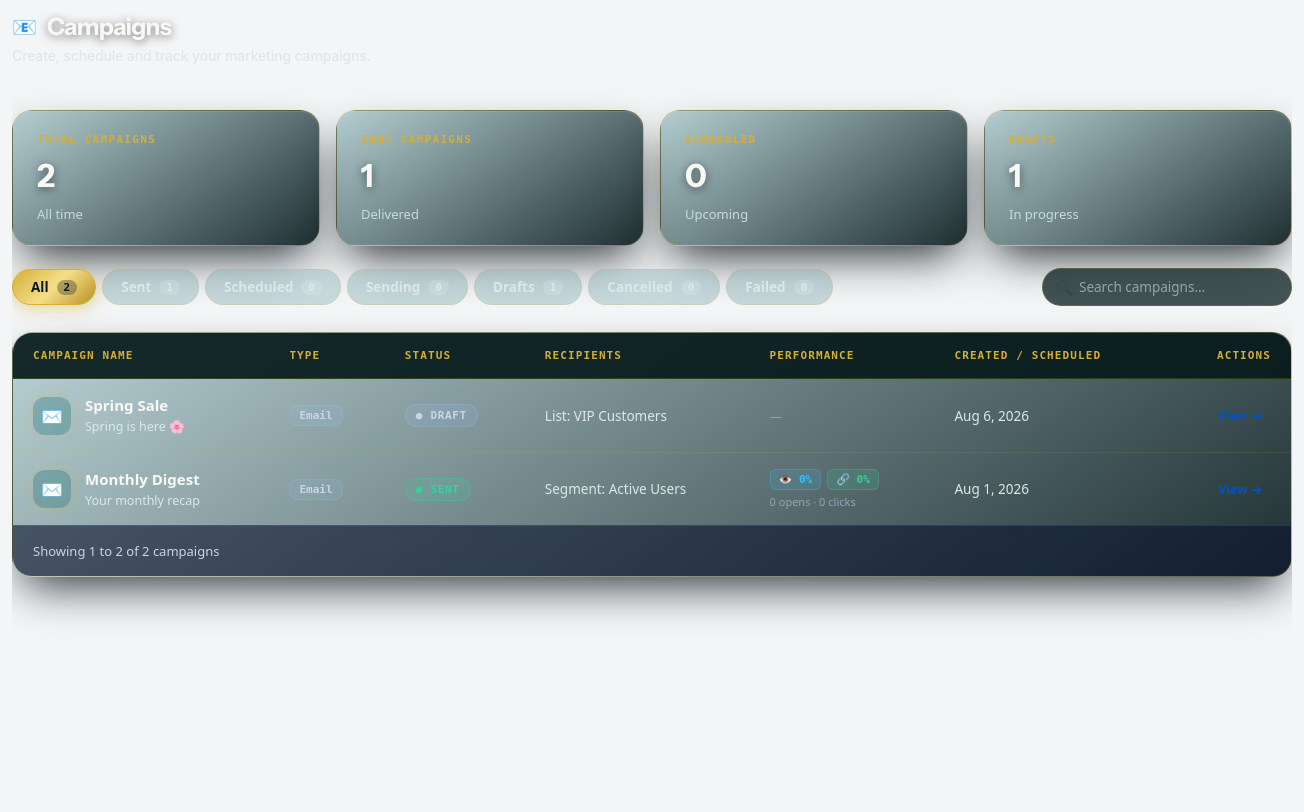
Test: CampaignsPage › filters by status tab
Check: the link "Spring Sale" is shown, box [85, 395, 168, 415]
Check: the link "Monthly Digest" is shown, box [85, 469, 200, 489]
Click the tab "Sent 1". click: (151, 287)
box: [102, 269, 199, 305]
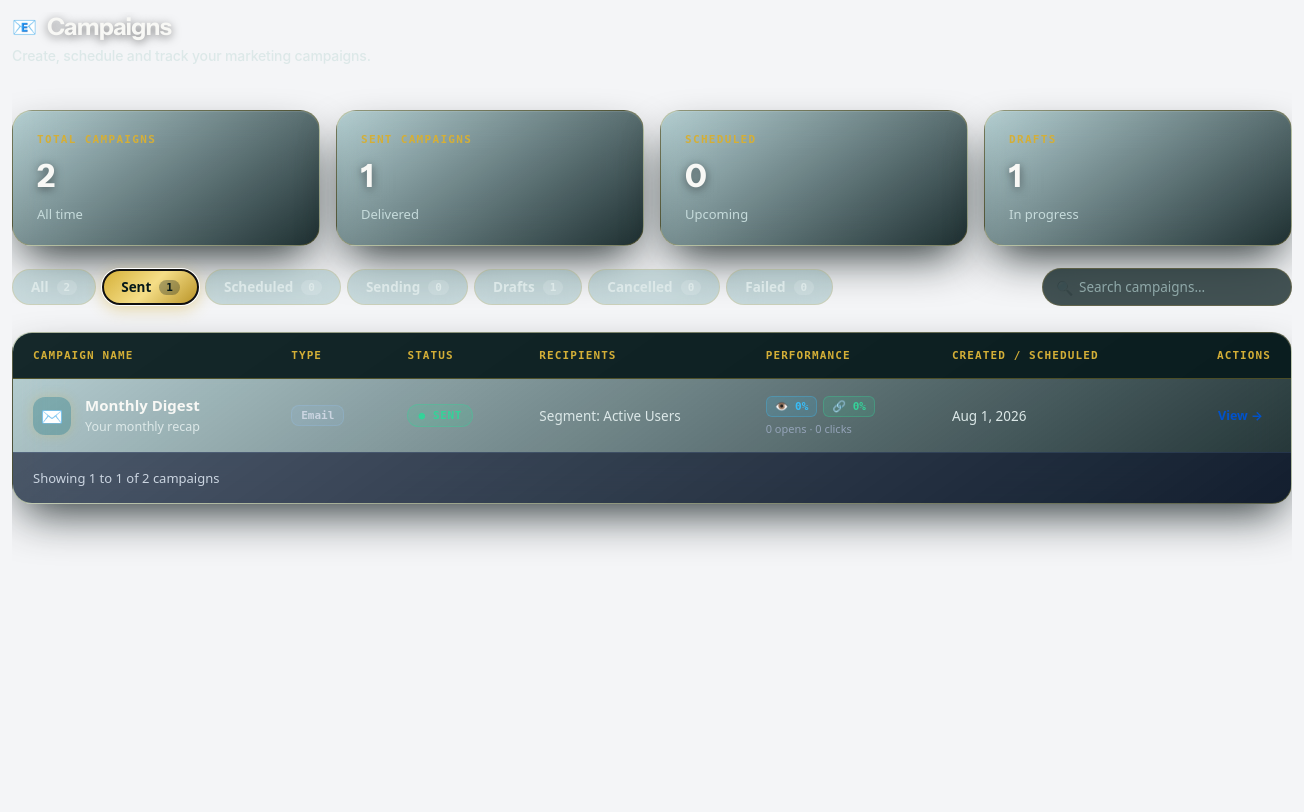
Check: the link "Monthly Digest" is shown, box [85, 395, 200, 415]
Check: the link "Spring Sale" is gone
Click the tab "All 2". click: (54, 287)
box: [12, 269, 96, 305]
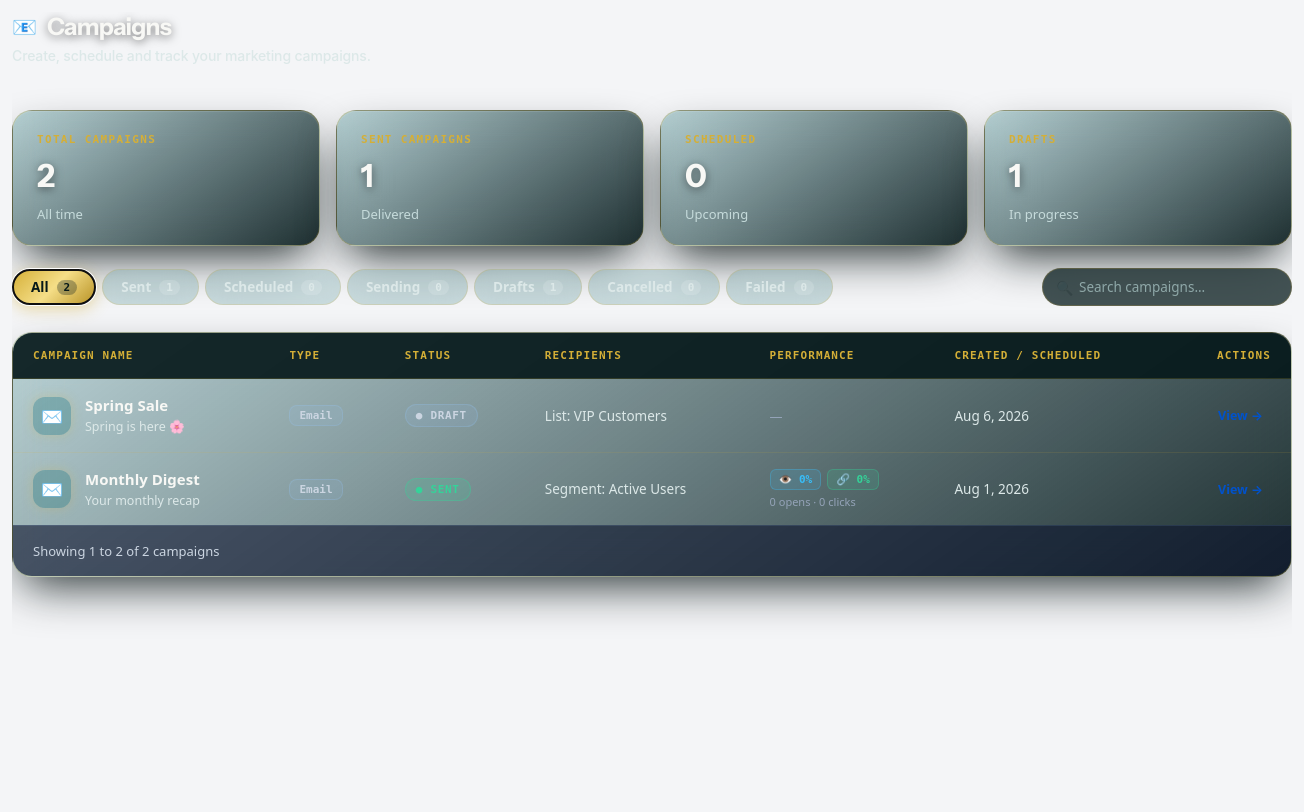
Check: the link "Monthly Digest" is shown, box [85, 469, 200, 489]
Check: the link "Spring Sale" is shown, box [85, 395, 168, 415]
